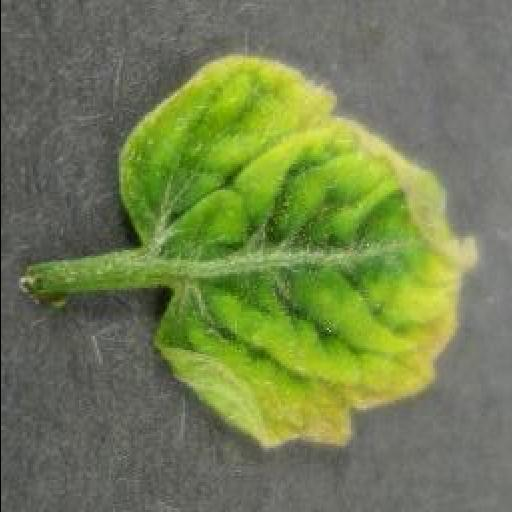disease_tomato: (114, 56, 480, 450)
